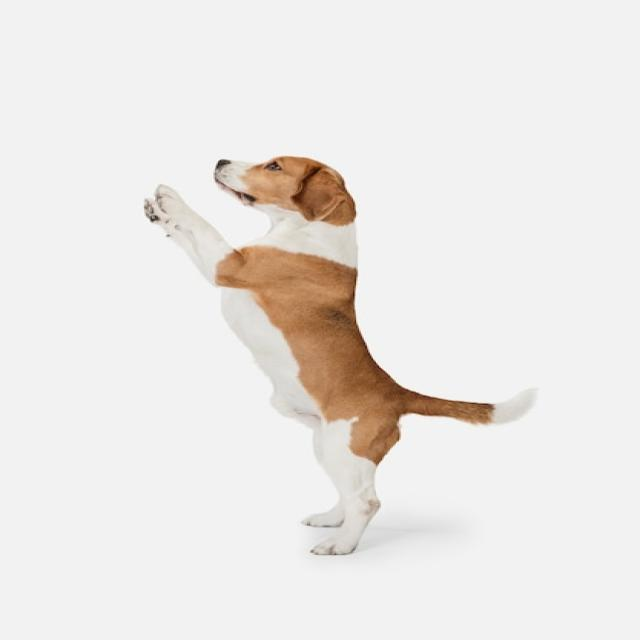Dog: (142, 155, 537, 554)
